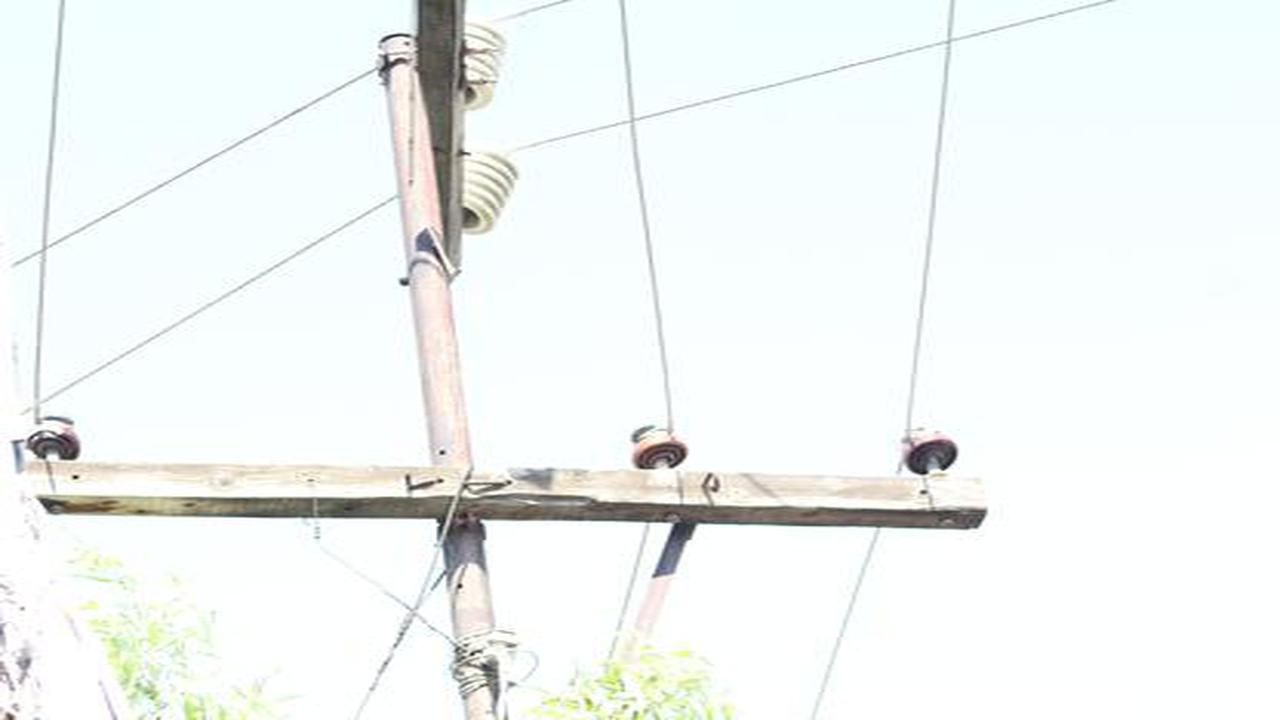defect_pin: (25, 412, 84, 461)
insulator_pin: (896, 422, 961, 476), (626, 420, 690, 470)
